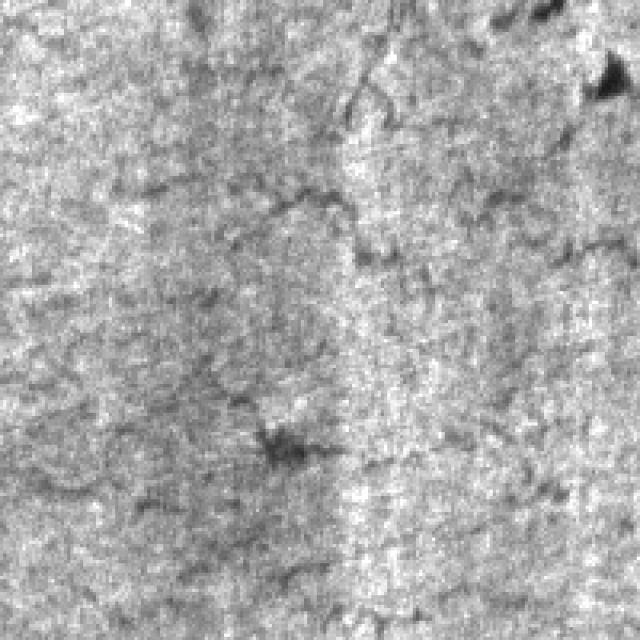crazing: (0, 298, 570, 630), (7, 58, 630, 314)
